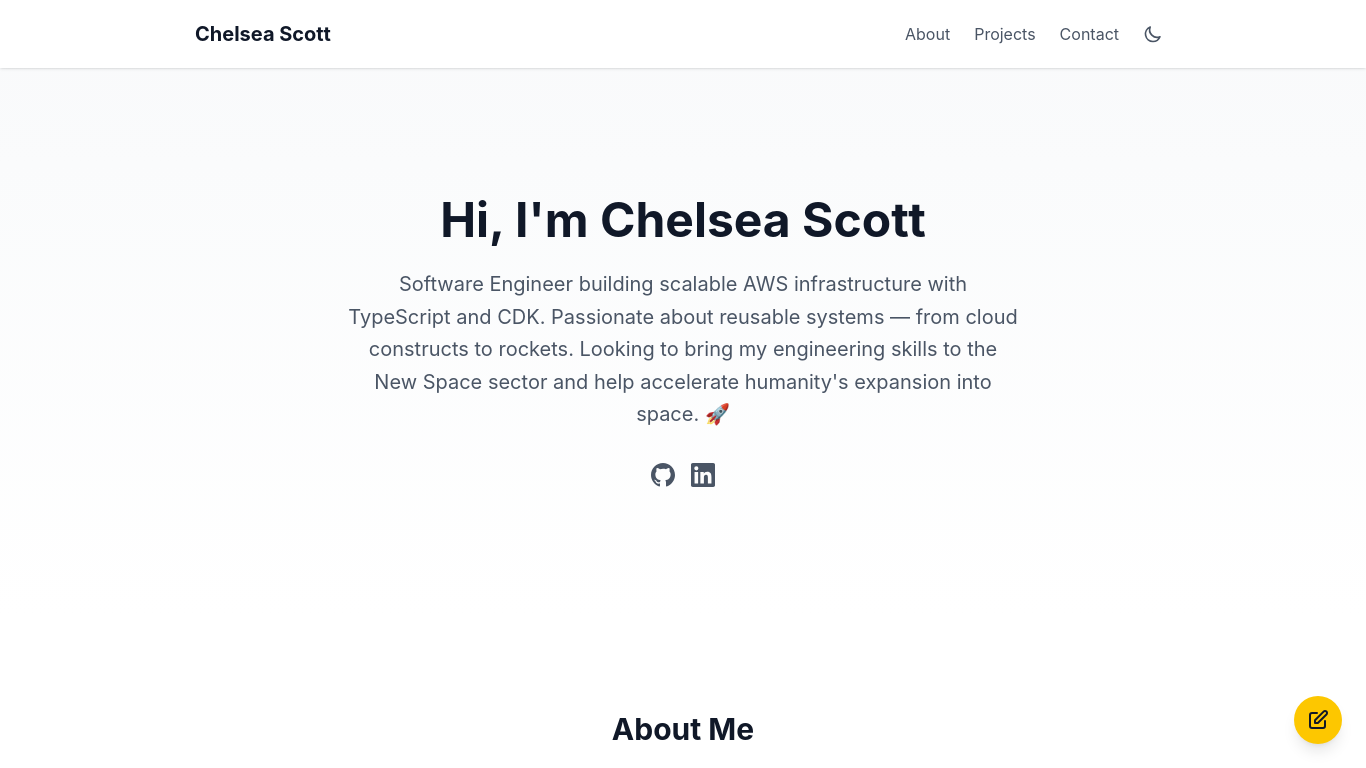
App › toggles dark mode when clicked
Click the button named "switch to dark mode": (1153, 34) [1135,16,1171,52]
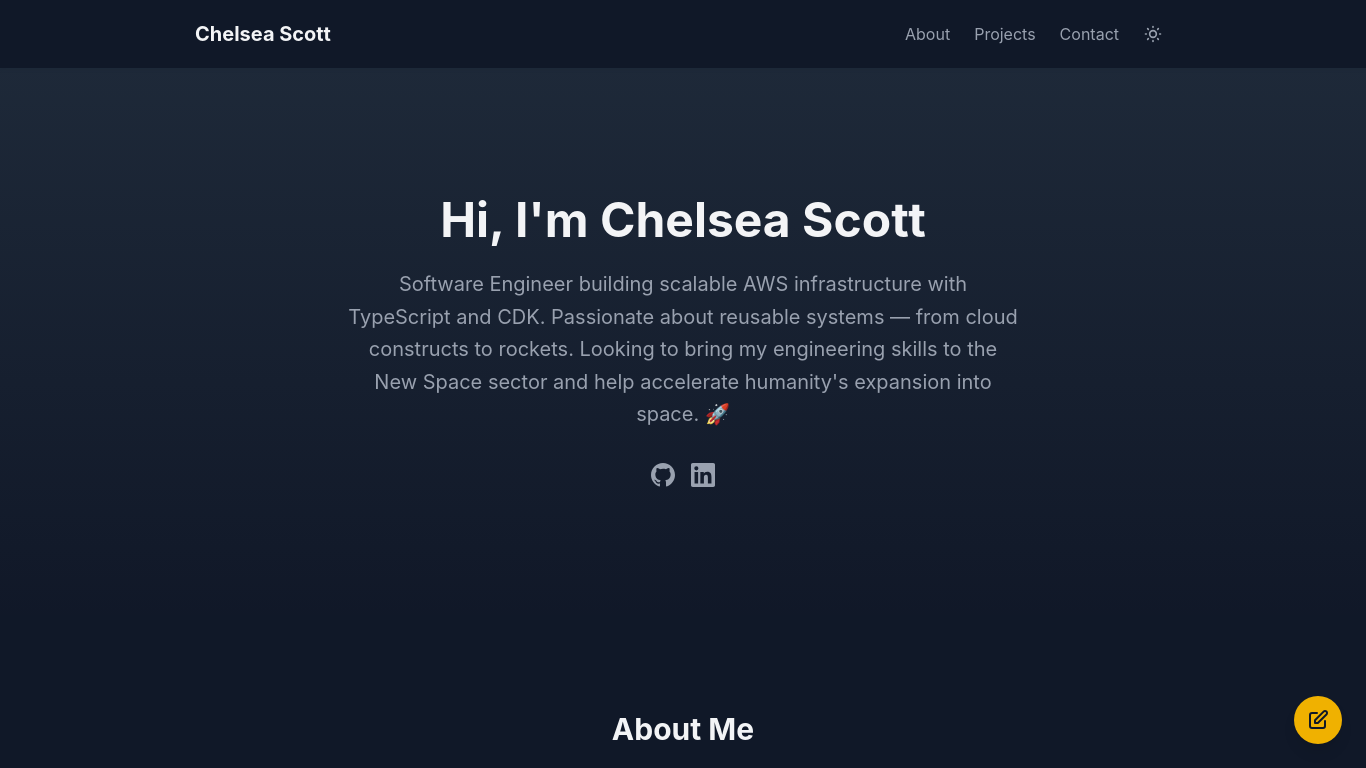
Expected: the button named "switch to light mode" is shown, [1135,16,1171,52]
